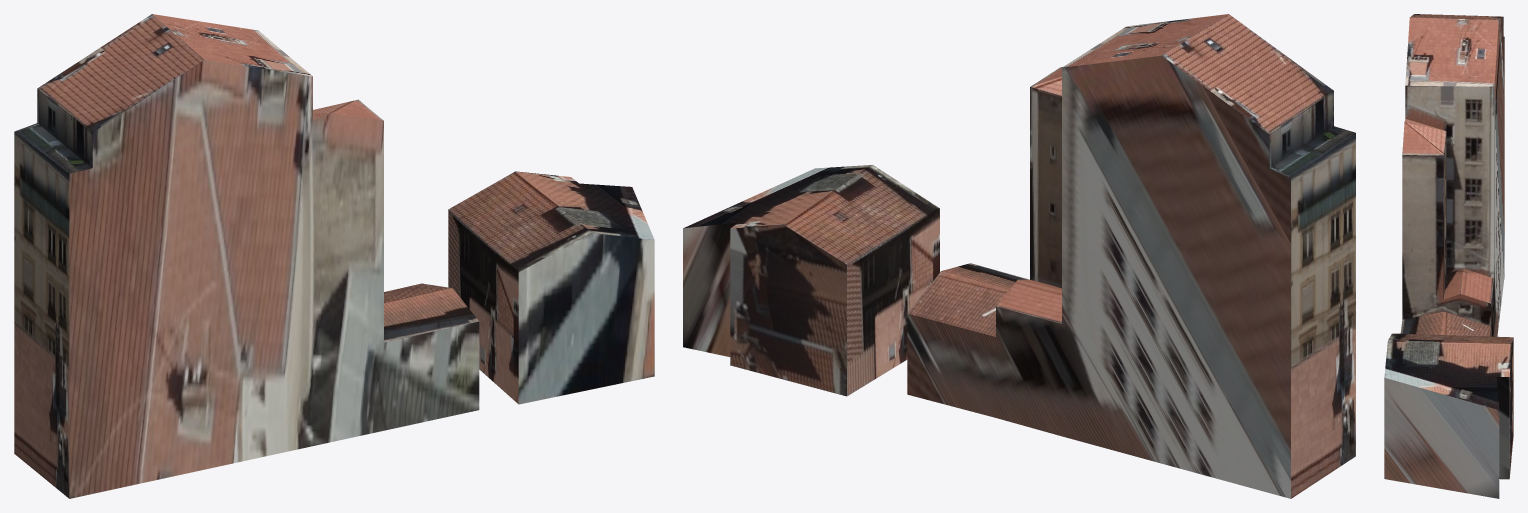
3 renders of one model, left to right at view 1: azimuth 30°, elevation 25°; view 2: azimuth 150°, elevation 25°; view 3: azimuth 270°, elevation 25°, orthographic. The views are drawn at different scales.
Visible parts, largest first — view 1: Z_UP; view 2: Z_UP; view 3: Z_UP.
Boxes of the visible parts, x1,y1,x2,y2 form: Z_UP: (14, 14, 654, 498); Z_UP: (683, 14, 1355, 498); Z_UP: (1384, 14, 1513, 498).
Size of the model in its own units: 40.26 by 25.46 by 9.79.
Materials: 2 (1 with a texture image).
